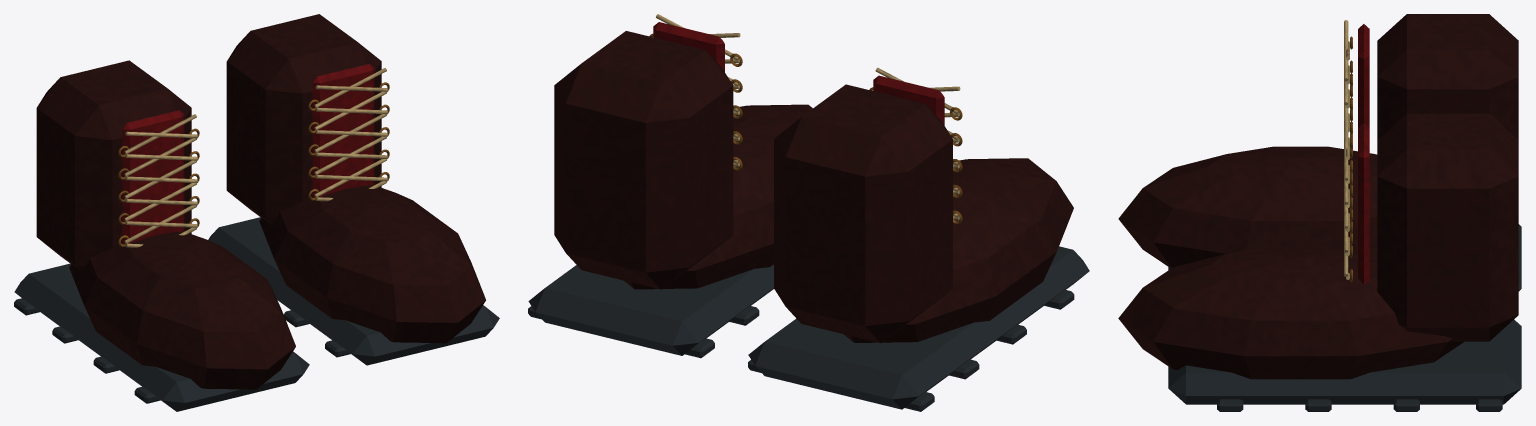
The model's file is clown_combat_boots.glb.
The picture shows the model from 3 angles, left to right: view 1: azimuth 30°, elevation 25°; view 2: azimuth 150°, elevation 25°; view 3: azimuth 270°, elevation 25°; orthographic projection. The views are drawn at different scales.
Visible parts, largest first — view 1: clown_combat_boots; view 2: clown_combat_boots; view 3: clown_combat_boots.
Part boxes in pixels (box(x1,y1,x2,y2)): clown_combat_boots: box(14, 14, 499, 411); clown_combat_boots: box(528, 14, 1089, 411); clown_combat_boots: box(1118, 14, 1521, 411).
Size of the model in its own units: 0.72 by 0.465 by 0.685.
5 materials, 4 textured.
